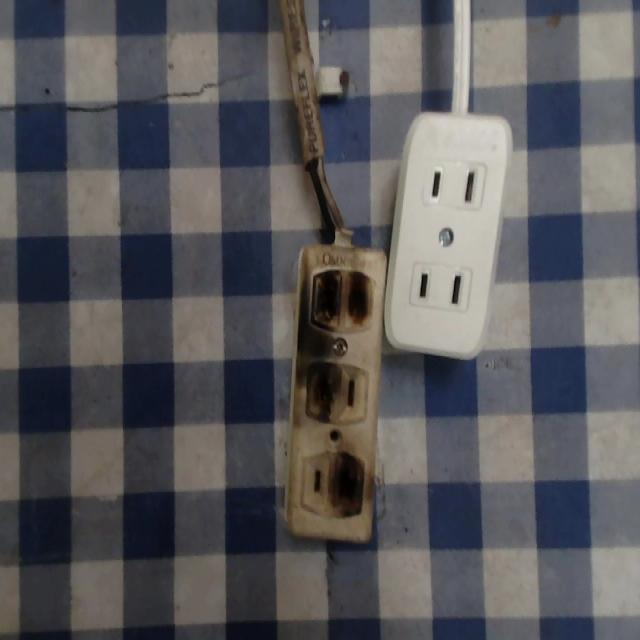-: (301, 264, 382, 337), (330, 446, 374, 518), (301, 355, 343, 429)
